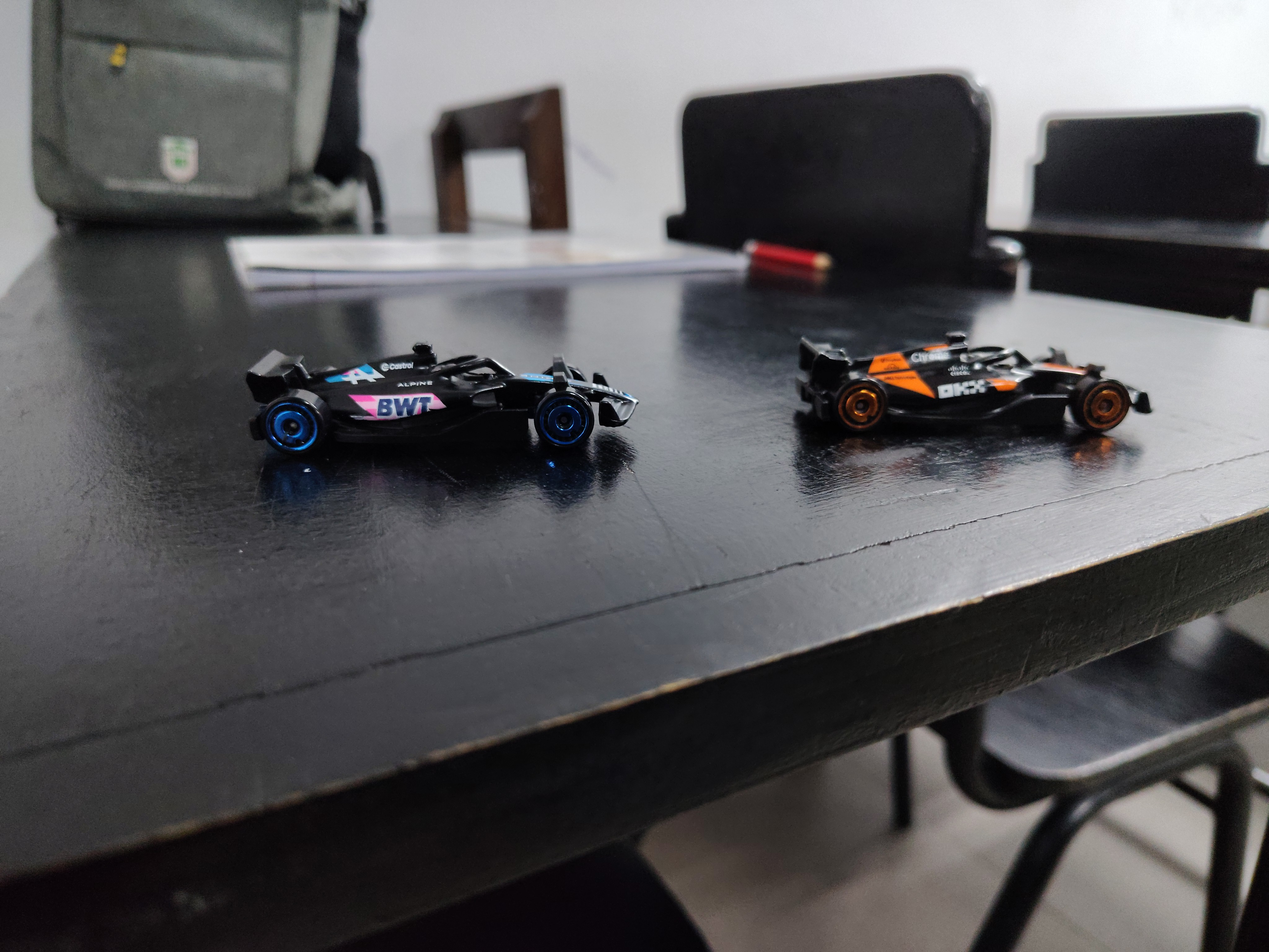Alpine A524: (206, 285, 661, 480)
McLaren MCL40: (745, 257, 1190, 487)
